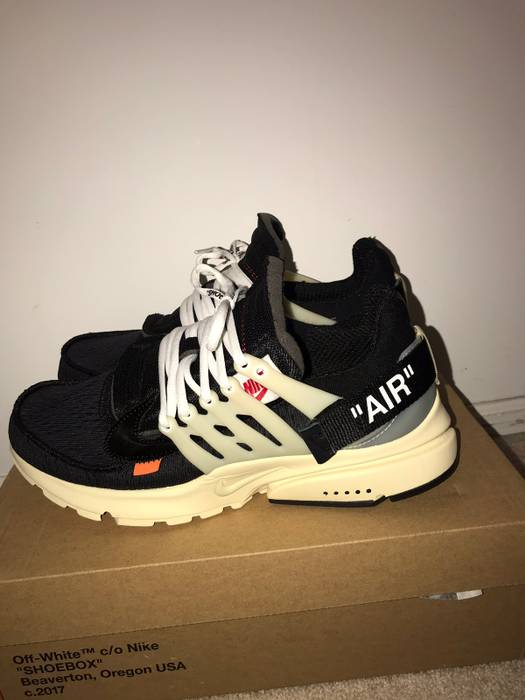Nike x OFF--WHITE Air Presto OG: (7, 244, 473, 528)
